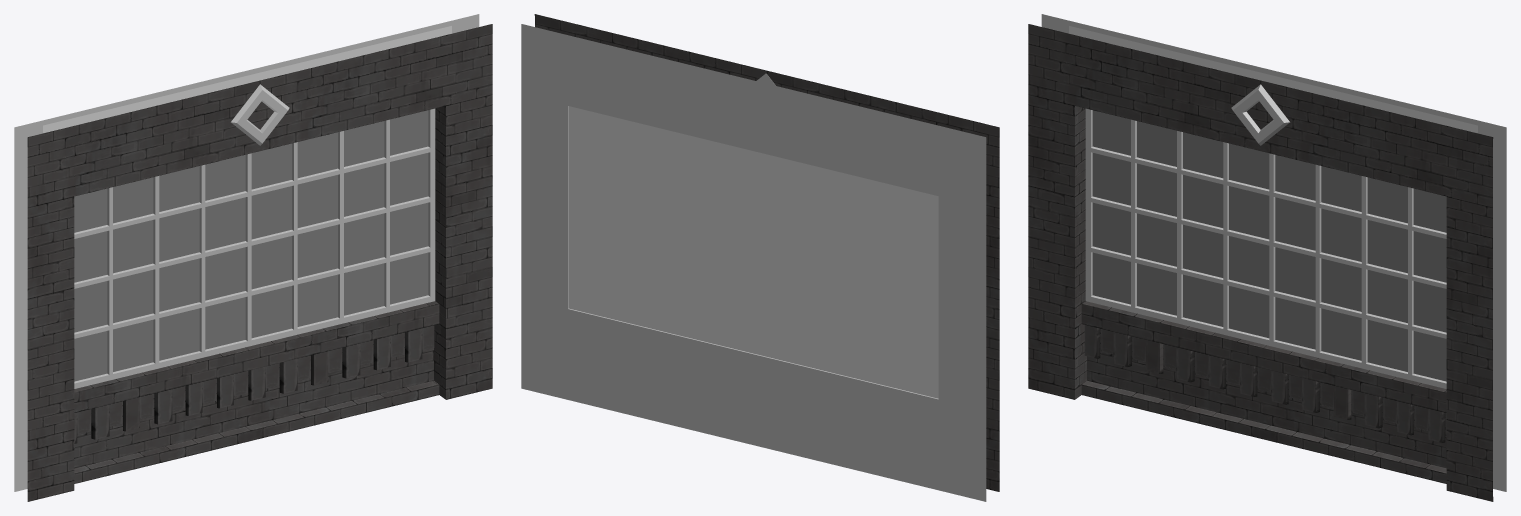
Rendered from WornBrick_WindowLarge_Top.gltf.
The picture shows the model from 3 angles, left to right: view 1: azimuth 30°, elevation 25°; view 2: azimuth 150°, elevation 25°; view 3: azimuth 330°, elevation 25°; orthographic projection.
Parts seen in each view (by area): view 1: WornBrick_WindowLarge_Top; view 2: WornBrick_WindowLarge_Top; view 3: WornBrick_WindowLarge_Top.
Boxes of the visible parts, bbox=[...] form: WornBrick_WindowLarge_Top: bbox=[14, 14, 492, 501]; WornBrick_WindowLarge_Top: bbox=[521, 14, 999, 501]; WornBrick_WindowLarge_Top: bbox=[1028, 14, 1506, 501].
Size of what is drawn, in the model's own units: 4 by 3 by 0.2347.
